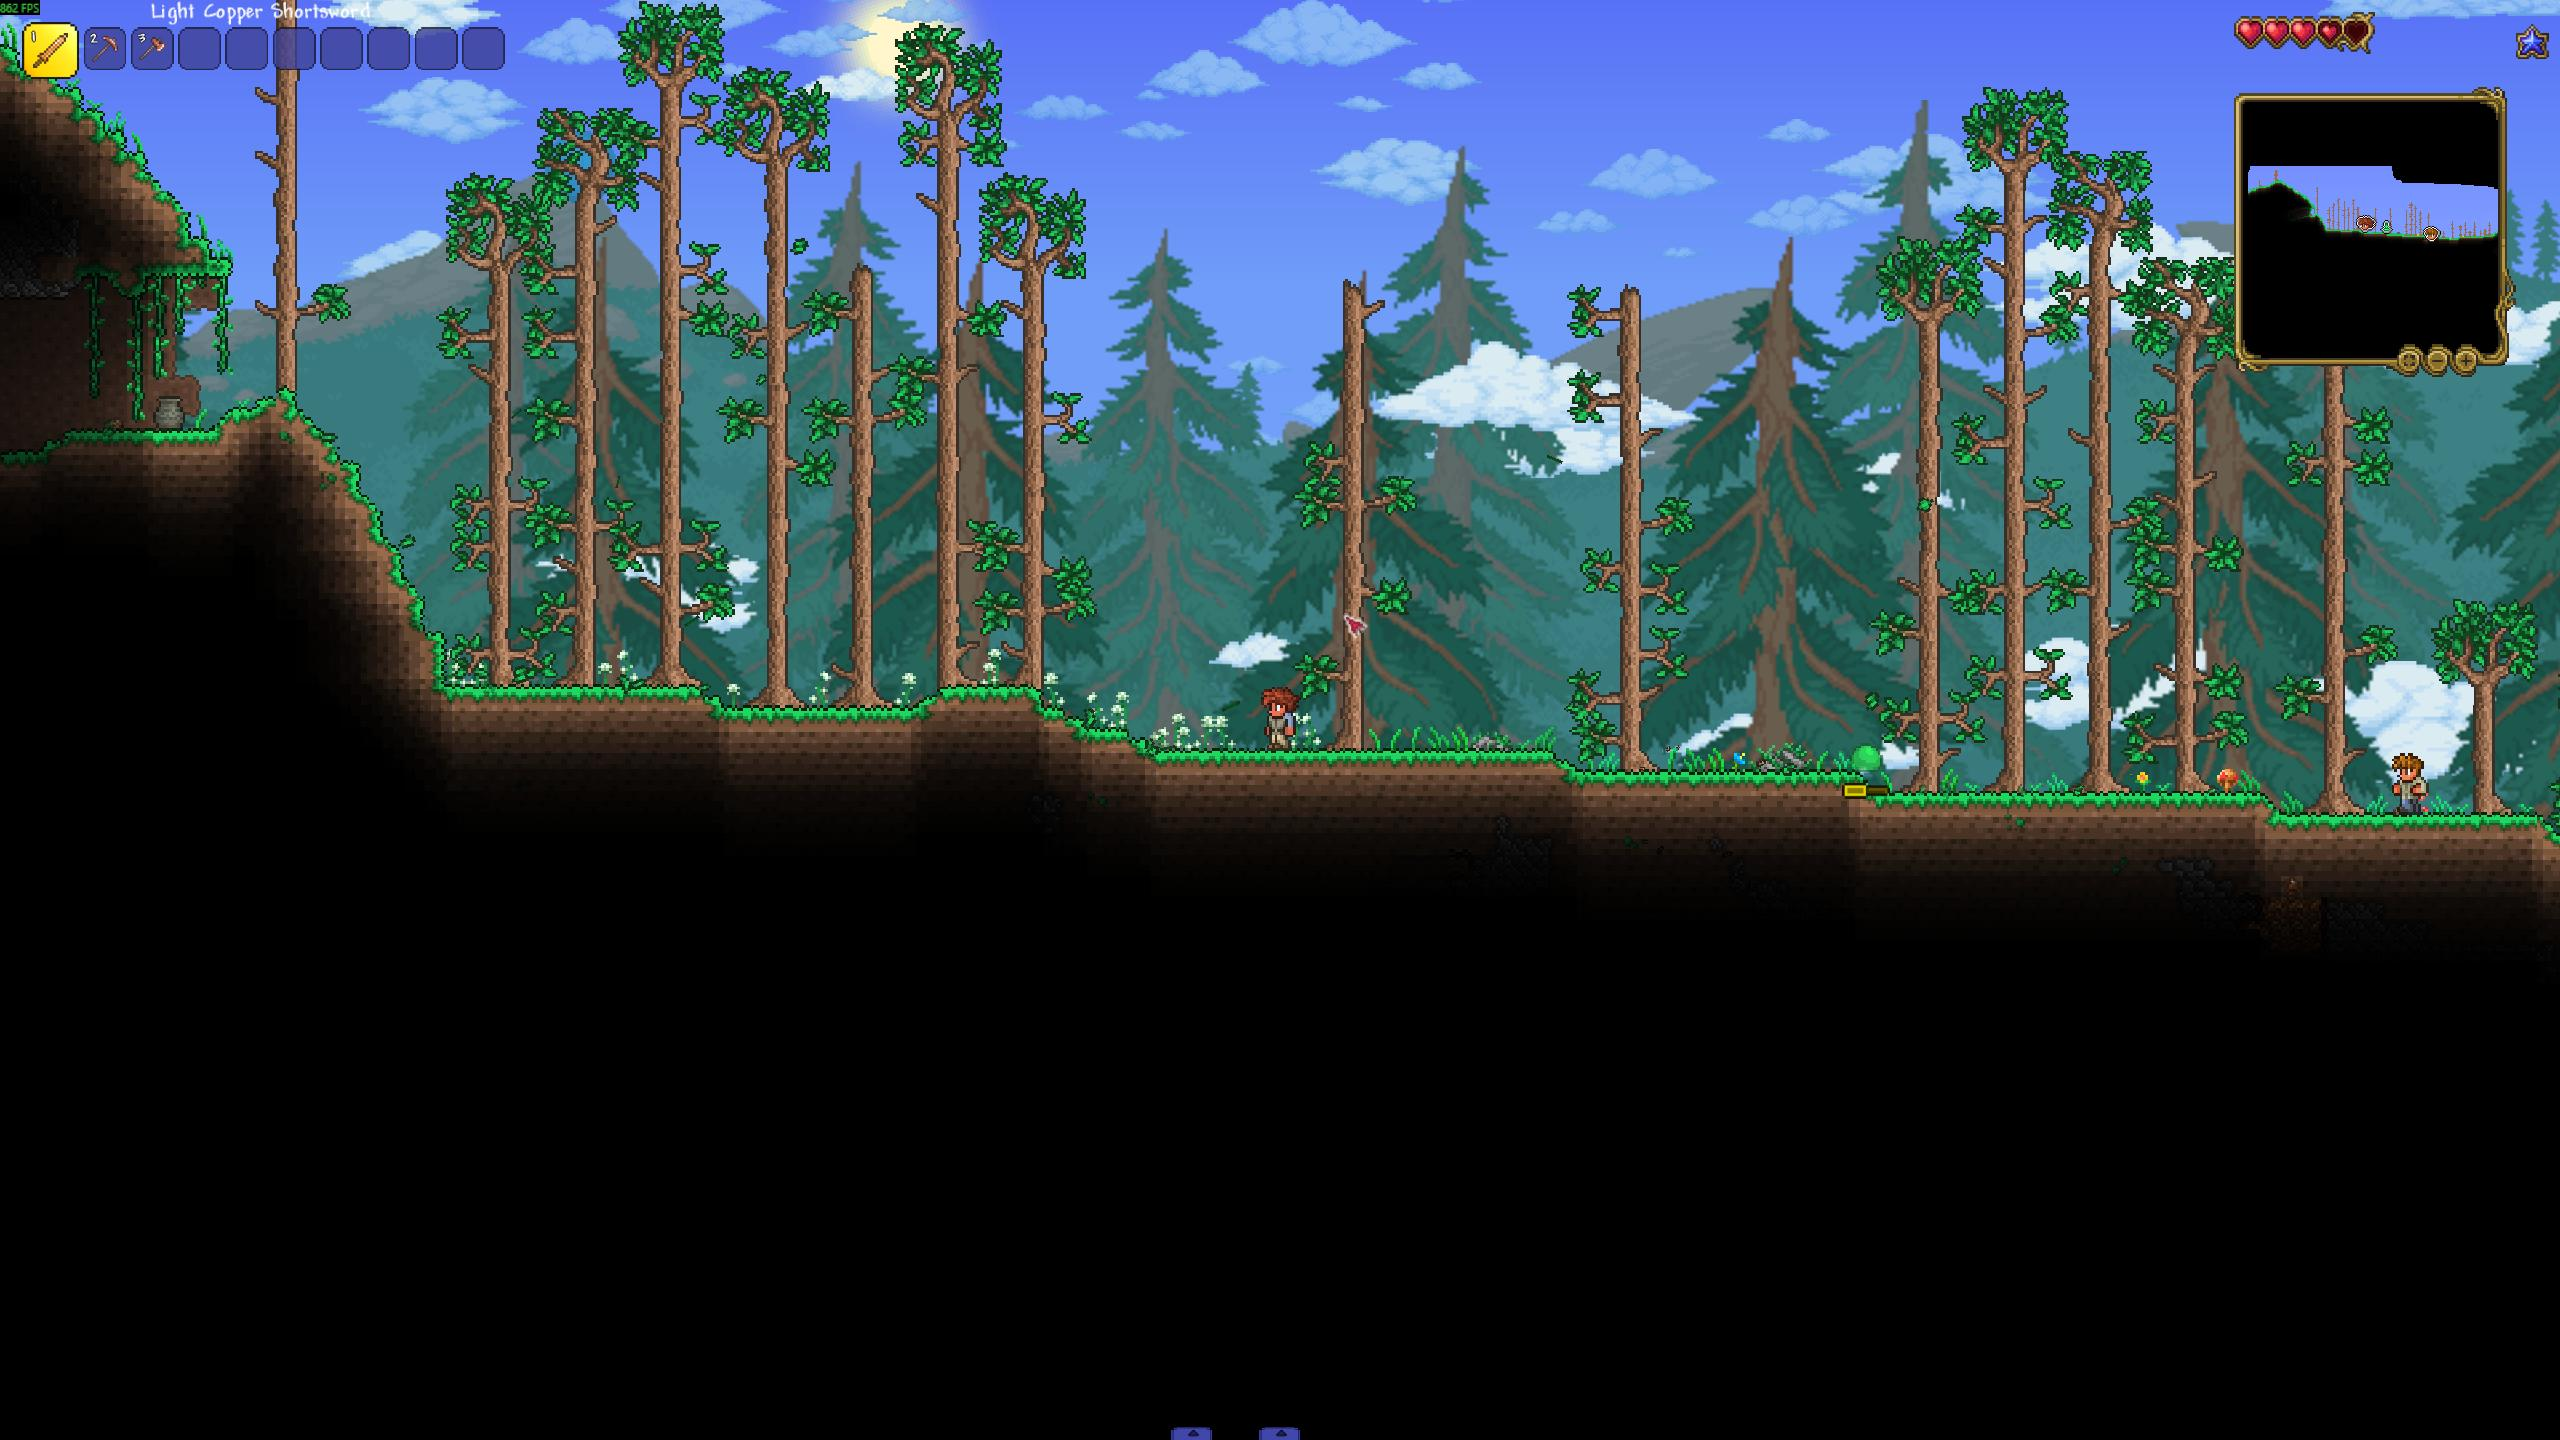Green Slime: (1844, 742, 1887, 777)
